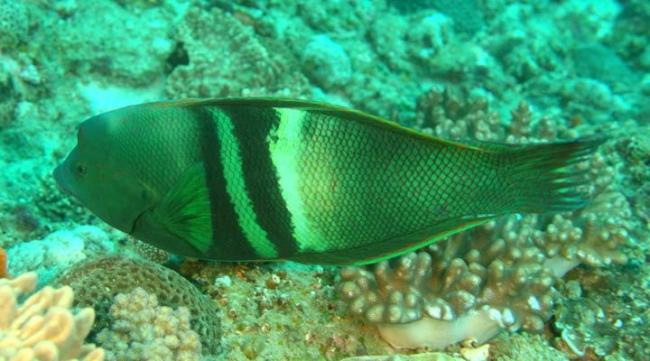fish: (53, 95, 608, 266)
